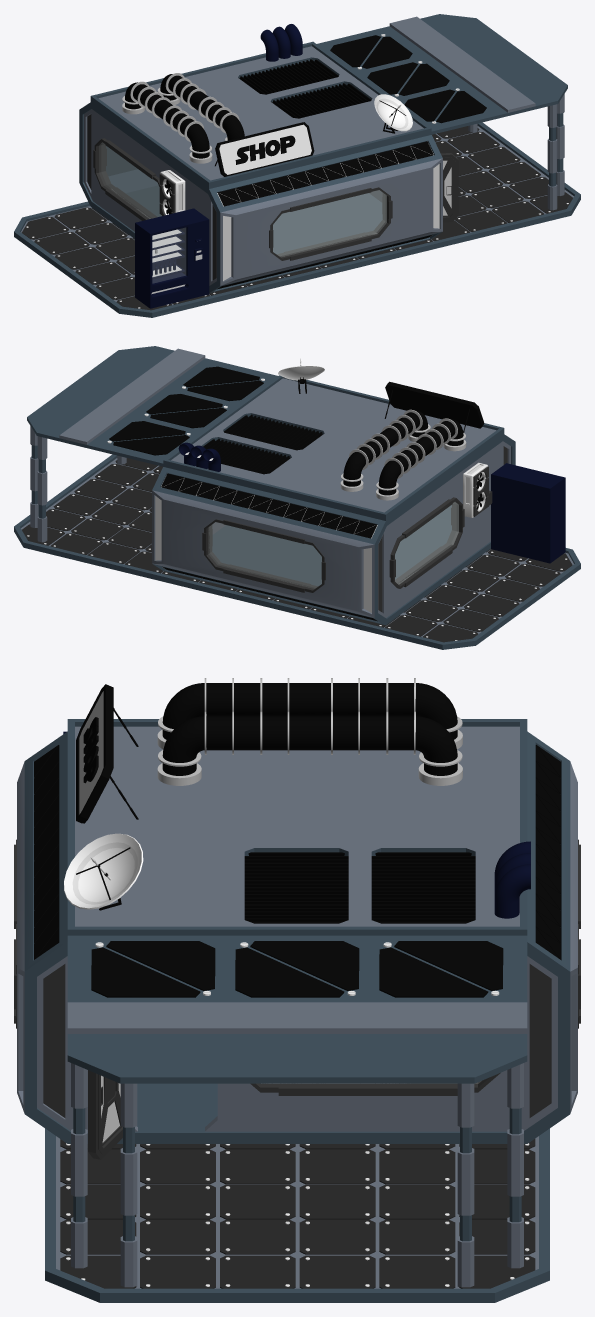
File: Shop2.fbx
The picture shows the model from 3 angles, top to bottom: view 1: azimuth 30°, elevation 25°; view 2: azimuth 150°, elevation 25°; view 3: azimuth 270°, elevation 25°; orthographic projection. The views are drawn at different scales.
Visible parts, largest first — view 1: Cube.005, Cube.001; view 2: Cube.005; view 3: Cube.005, Cube.001.
Boxes of the visible parts, x1=… form: Cube.005: x1=14, y1=14, x2=580, y2=317; Cube.001: x1=440, y1=153, x2=458, y2=222; Cube.005: x1=14, y1=346, x2=580, y2=649; Cube.005: x1=14, y1=678, x2=580, y2=1302; Cube.001: x1=88, y1=1070, x2=122, y2=1159.
Bounding box in the file's own units: 6.43 × 1.93 × 3.51.
